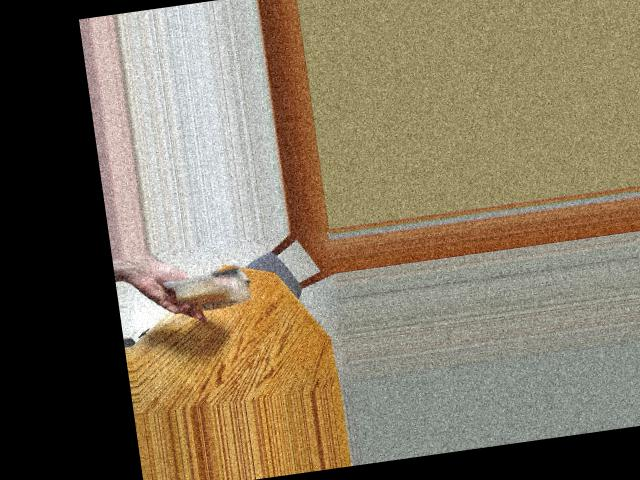cheese: (169, 258, 251, 323)
